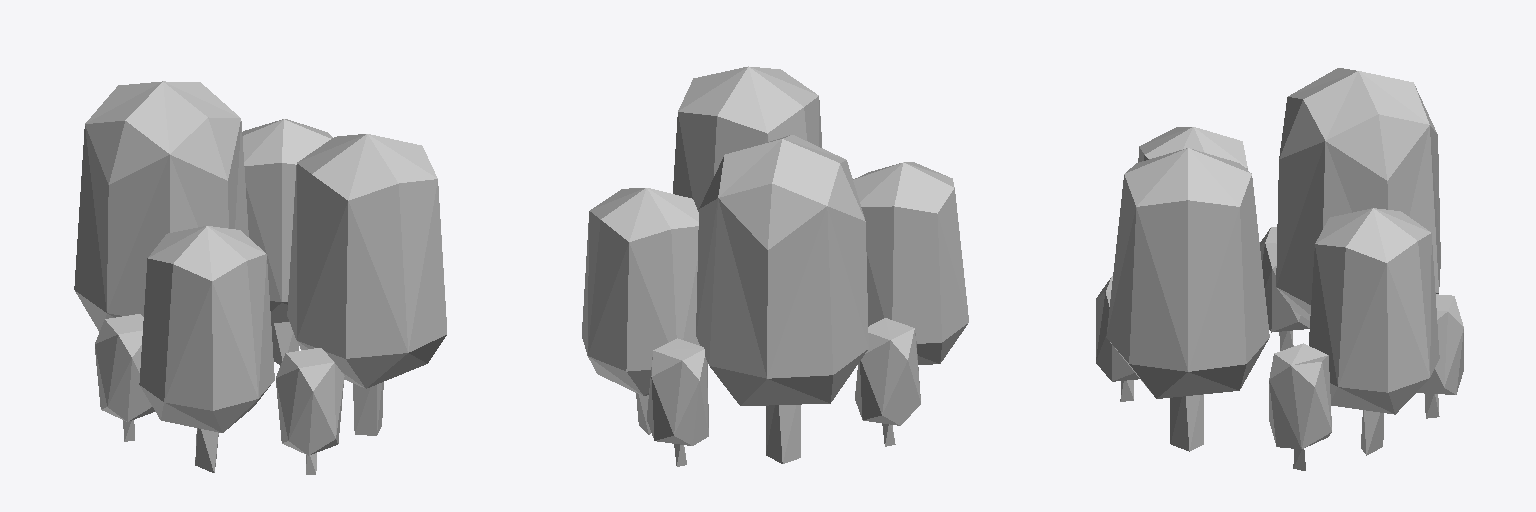
The model's file is ForestS_1.obj.
The picture shows the model from 3 angles: view 1: azimuth 30°, elevation 25°; view 2: azimuth 150°, elevation 25°; view 3: azimuth 270°, elevation 25°; orthographic projection.
Visible parts, largest first — view 1: Wood.002; view 2: Wood.002; view 3: Wood.002.
Boxes of the visible parts, x1=… form: Wood.002: x1=74, y1=81, x2=446, y2=474; Wood.002: x1=582, y1=66, x2=968, y2=466; Wood.002: x1=1096, y1=68, x2=1463, y2=470.
Bounding box in the file's own units: 0.9348 × 0.9406 × 0.9887.